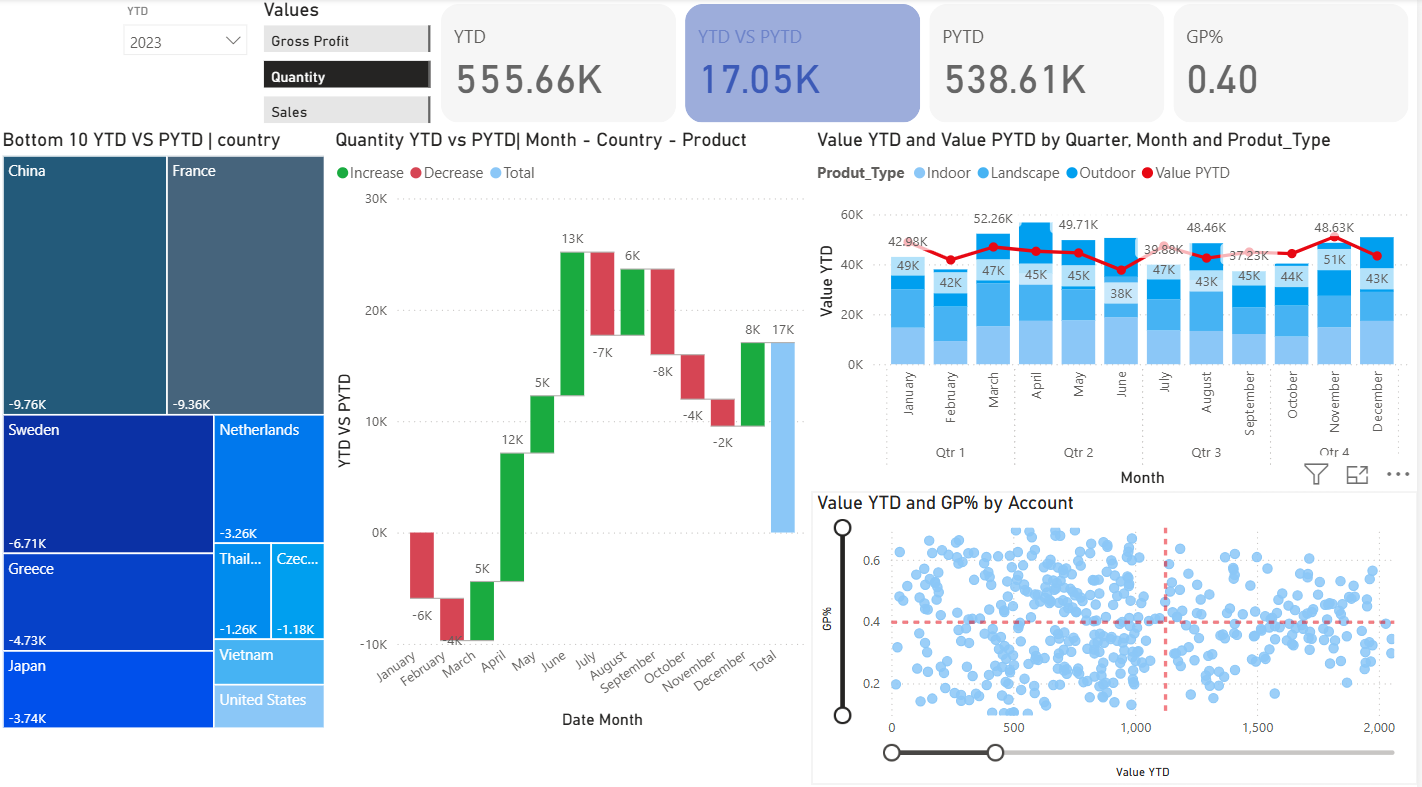

This screenshot's page, from the dashboard's own definition file:
{"tool":"powerbi","page":{"name":"Page 1","canvas":[1280,720],"ordinal":0},"visuals":[{"type":"cardVisual","fields":{"Data":["_Measures.S_YTD","_Measures.YTD VS PYTD","_Measures.S_PYTD","_Measures.GP%"]},"box":[394.7,0,885.4,117.6],"z":0},{"type":"slicer","fields":{"Values":["Dim_Date.Date.Variation.Date Hierarchy.Year"]},"box":[104.1,0,131.1,81.1],"z":1000},{"type":"advancedSlicerVisual","fields":{"Values":["Slc_Values.Values"]},"box":[235.2,0,160.9,117.6],"z":2000},{"type":"treemap","title":"Bottom 10 YTD VS PYTD | country","fields":{"Values":["_Measures.YTD VS PYTD"],"Group":["Dim_Account.country"]},"box":[0,118.1,299.8,545.1],"z":3000},{"type":"waterfallChart","fields":{"Y":["_Measures.YTD VS PYTD"],"Category":["Dim_Date.Date.Variation.Date Hierarchy.Month","Dim_Account.country","Dim_Product.Produt_Type","Dim_Product.Product_Name_id"]},"box":[299.8,118.1,434.6,545.1],"z":4000},{"type":"lineStackedColumnComboChart","fields":{"Y":["_Measures.S_YTD"],"Y2":["_Measures.S_PYTD"],"Category":["Dim_Date.Date.Variation.Date Hierarchy.Quarter","Dim_Date.Date.Variation.Date Hierarchy.Month"],"Series":["Dim_Product.Produt_Type"]},"box":[734.4,118.1,545.1,327.1],"z":5000},{"type":"scatterChart","fields":{"Y":["_Measures.GP%"],"X":["_Measures.S_YTD"],"Category":["Dim_Account.Account"]},"box":[734.4,445.2,545.1,263.5],"z":6000}]}

Visuals, with their boxes in screenshot pixels (x1, y1, x2, y2), scaled from the page's 1280x720 canvas onto the 1422x787 screenshot:
cardVisual - _Measures.S_YTD x _Measures.YTD VS PYTD: x1=438, y1=0, x2=1421, y2=129
slicer - Dim_Date.Date.Variation.Date Hierarchy.Year: x1=116, y1=0, x2=261, y2=89
advancedSlicerVisual - Slc_Values.Values: x1=261, y1=0, x2=440, y2=129
"Bottom 10 YTD VS PYTD | country" treemap: x1=0, y1=129, x2=333, y2=725
waterfallChart - _Measures.YTD VS PYTD x Dim_Date.Date.Variation.Date Hierarchy.Month: x1=333, y1=129, x2=816, y2=725
lineStackedColumnComboChart - _Measures.S_YTD x _Measures.S_PYTD: x1=816, y1=129, x2=1421, y2=487
scatterChart - _Measures.GP% x _Measures.S_YTD: x1=816, y1=487, x2=1421, y2=775
